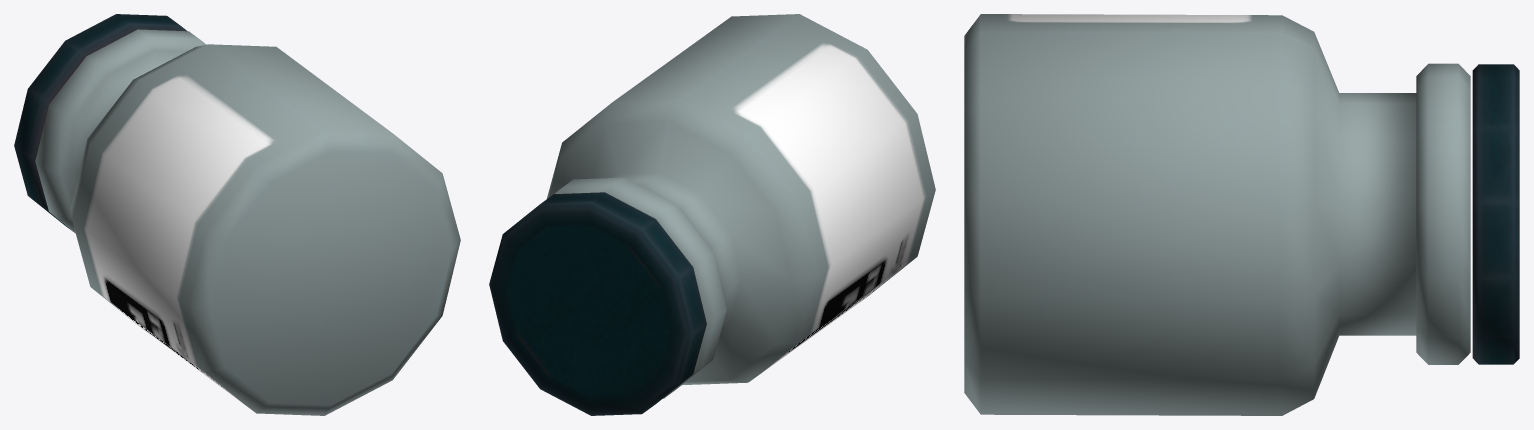
Rendered from Vial.fbx.
3 views of the same model, side by side, from view 1: azimuth 30°, elevation 25°; view 2: azimuth 150°, elevation 25°; view 3: azimuth 270°, elevation 25° (orthographic). The views are drawn at different scales.
Visible parts, largest first — view 1: Vial_body, Vial_cap; view 2: Vial_body, Vial_cap; view 3: Vial_body, Vial_cap.
Part boxes in pixels (x1=…): Vial_body: x1=35, y1=29, x2=460, y2=415; Vial_cap: x1=14, y1=14, x2=187, y2=232; Vial_body: x1=547, y1=14, x2=935, y2=398; Vial_cap: x1=489, y1=192, x2=706, y2=415; Vial_body: x1=964, y1=14, x2=1470, y2=415; Vial_cap: x1=1472, y1=64, x2=1519, y2=364.
Bounding box in the file's own units: 101 × 100 × 138.
Materials: 1 (1 with a texture image).
